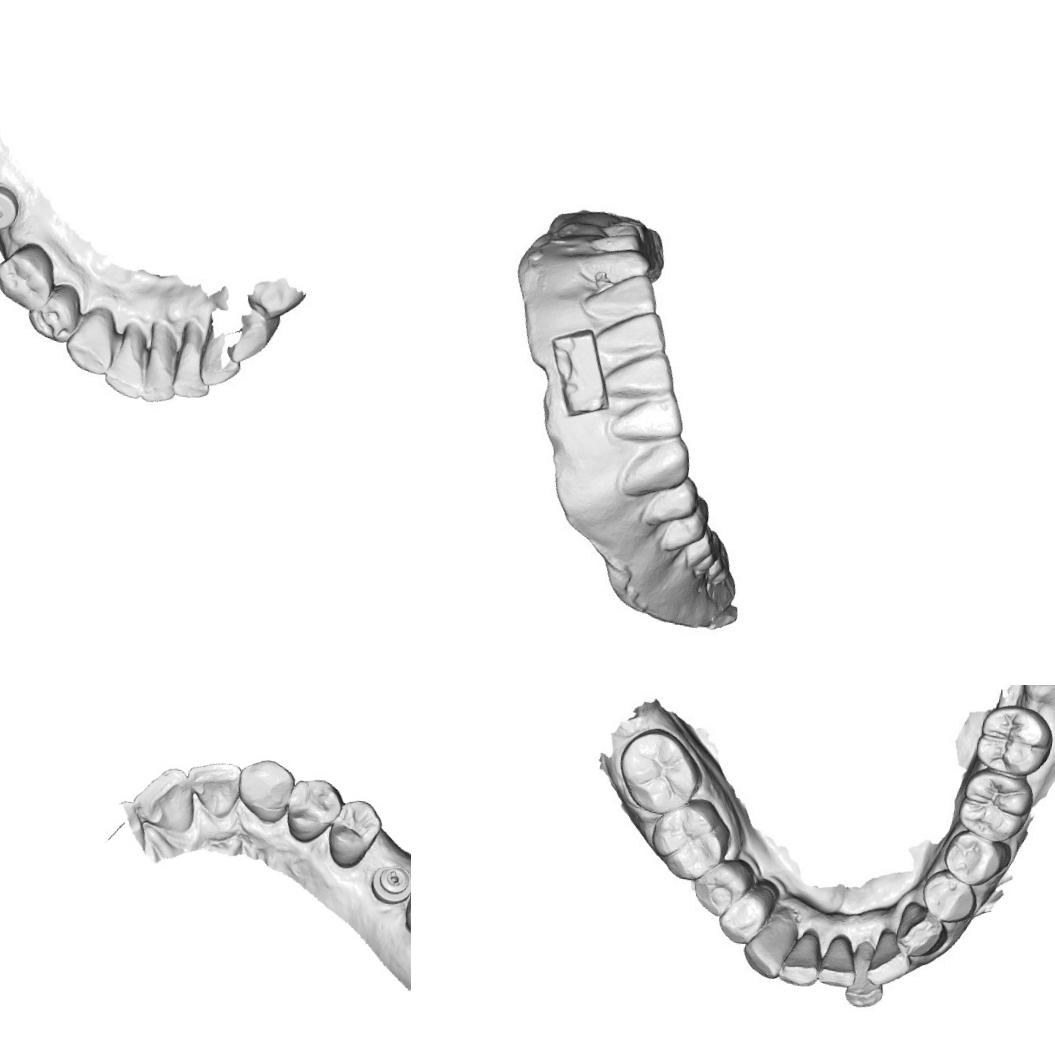canine: (232, 753, 300, 828), (736, 908, 797, 990), (620, 438, 694, 498), (65, 306, 118, 376), (573, 248, 656, 290), (898, 899, 943, 962)
implant: (0, 179, 27, 237)
implant_minus: (367, 859, 411, 905)
incisor: (127, 760, 201, 836), (592, 307, 676, 368), (585, 270, 665, 330), (607, 394, 693, 448), (598, 354, 680, 404), (182, 756, 244, 822), (138, 322, 184, 404), (106, 324, 154, 395), (780, 927, 828, 992), (172, 328, 216, 396), (866, 927, 914, 987), (846, 942, 886, 1008), (815, 929, 861, 986)
molar: (618, 729, 699, 813), (650, 800, 728, 877), (974, 706, 1052, 774), (961, 771, 1035, 842)
premolar: (323, 794, 386, 873), (282, 774, 346, 848), (0, 243, 61, 310), (22, 280, 85, 344), (943, 830, 1005, 887), (718, 884, 774, 946), (694, 860, 751, 918), (926, 872, 976, 924)
